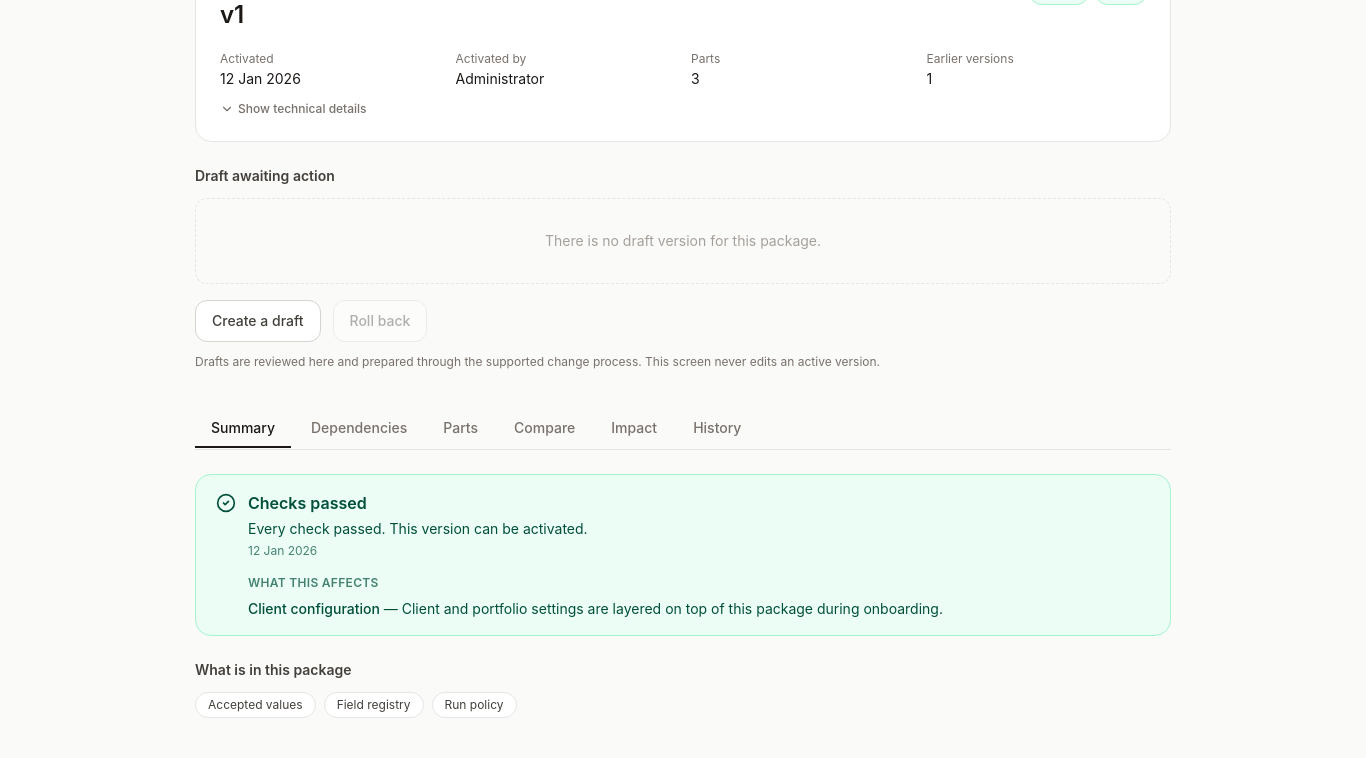
it: versions › inspects a part read-only and never offers to edit it
(page scrolled)
Click the button "Parts" at coordinates (461, 429), box [427,410,494,448]
(page scrolled)
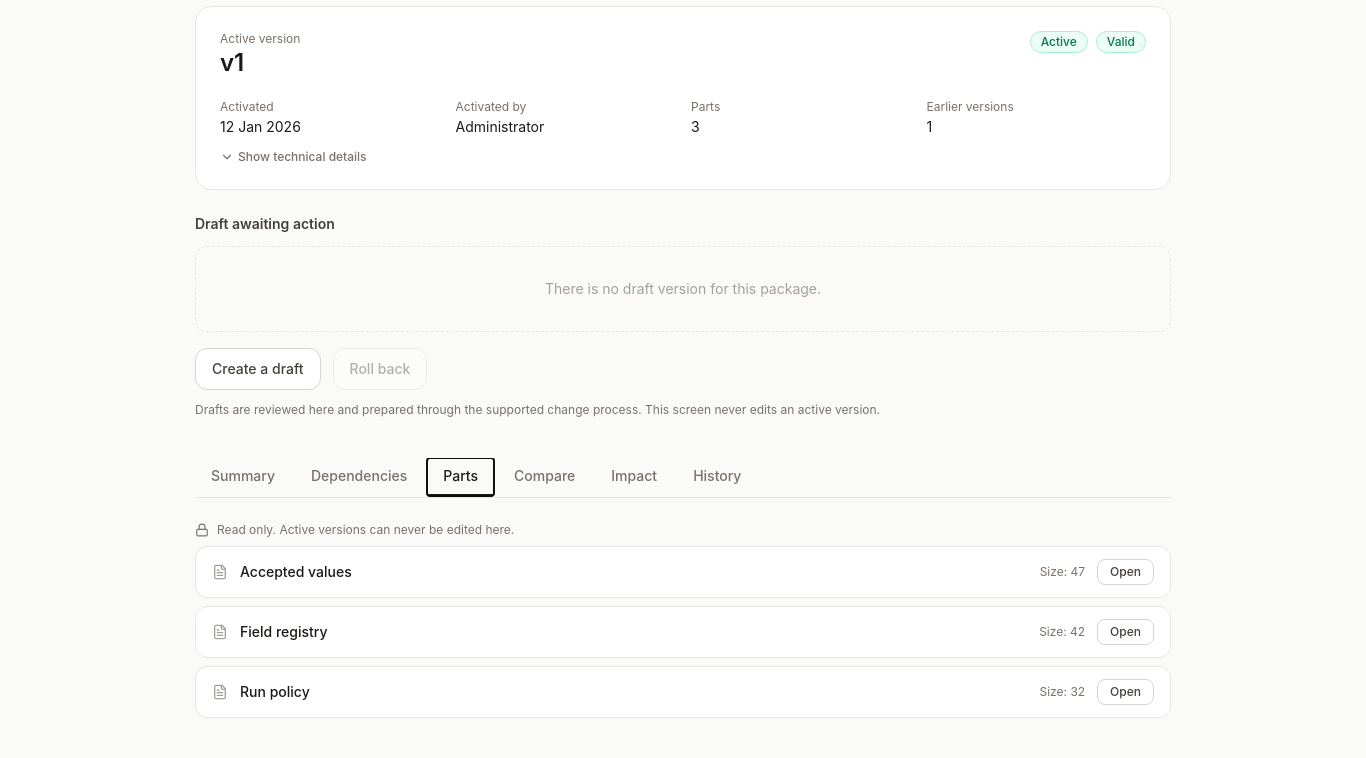
Expected: the text "Field registry" is shown, [240,622,328,642]
Expected: the text "Read only. Active versions can never be edited here." is shown, [195,522,514,537]
Click the button "Open" next to "42" at coordinates (1126, 632), box [1097,619,1154,645]
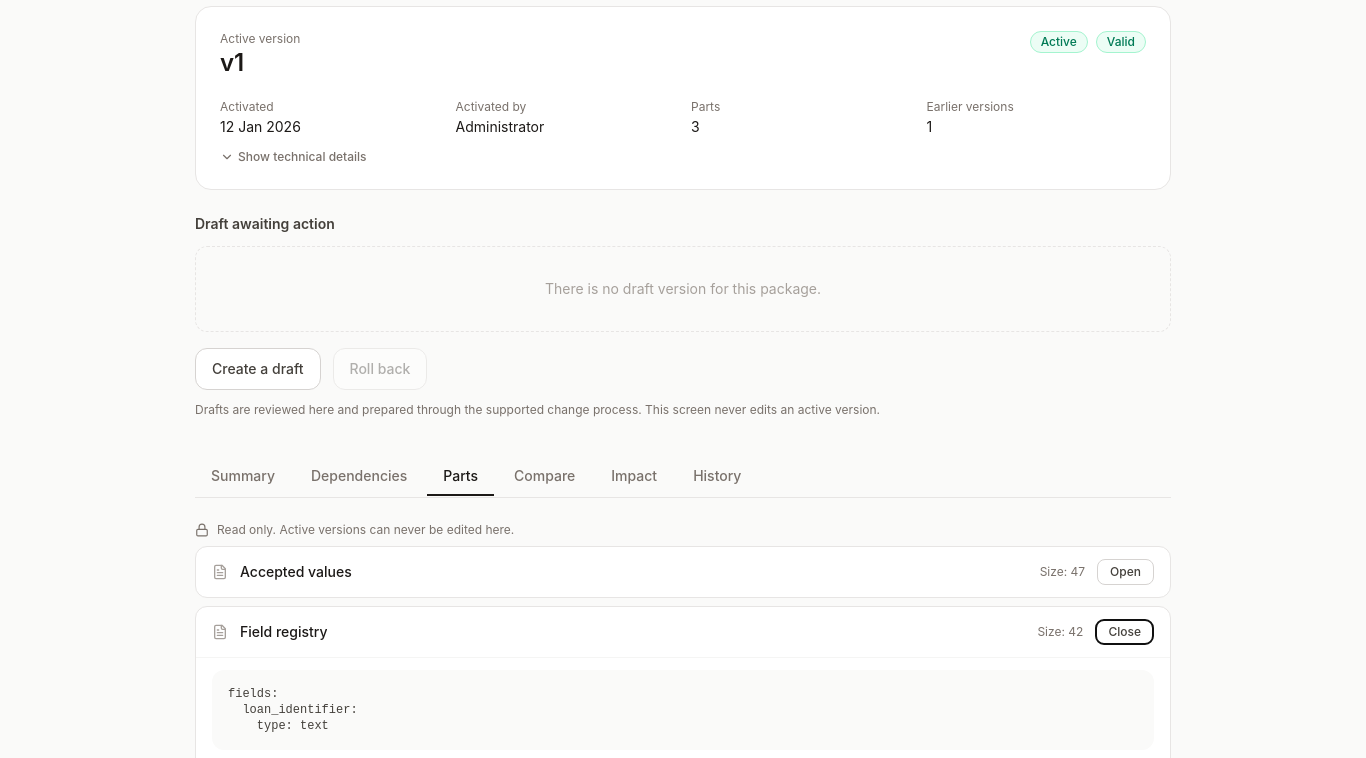
Expected: the text "fields: loan_identifier: type: text" is shown, [212,670,1154,750]
